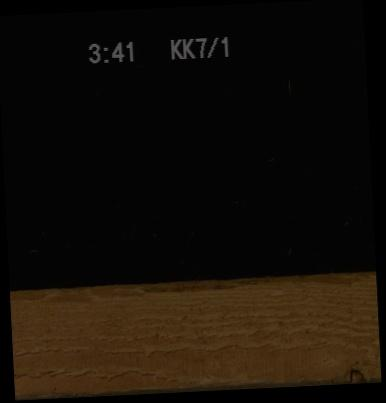edge_knot: (345, 364, 368, 382)
wave: (9, 274, 375, 293)
